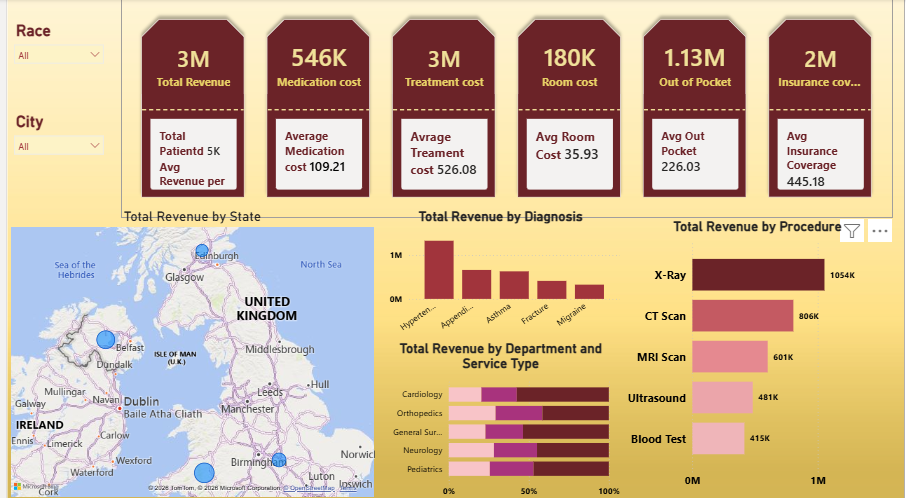

This screenshot's page, from the dashboard's own definition file:
{"tool":"powerbi","page":{"name":"Financial ovrveiw","canvas":[1280,720],"ordinal":0},"visuals":[{"type":"cardVisual","fields":{"Data":["cities.Total Revenue","cities.Medication cost","cities.Treatment cost","cities.Room cost","cities.Out of Pocket","cities.Insurance coverage"]},"box":[162.7,0,1101.2,312.8],"z":0},{"type":"hundredPercentStackedBarChart","fields":{"Category":["departments.Department"],"Y":["cities.Total Revenue"],"Series":["visits.Service Type"]},"box":[529.2,486.3,350.4,234.2],"z":1000},{"type":"clusteredColumnChart","fields":{"Y":["cities.Total Revenue"],"Category":["diagnoses.Diagnosis"]},"box":[529.2,298.5,350.4,187.7],"z":2000},{"type":"barChart","fields":{"Y":["cities.Total Revenue"],"Category":["procedures.Procedure"]},"box":[879.6,312.8,384.4,395.1],"z":3000},{"type":"slicer","fields":{"Values":["patients.Race"]},"box":[0,26.8,148.4,130.5],"z":4000},{"type":"map","fields":{"Category":["cities.State"],"Size":["cities.Total Revenue"]},"box":[0,298.5,529.2,416.5],"z":5000},{"type":"slicer","fields":{"Values":["cities.City"]},"box":[0,157.3,148.4,155.5],"z":6000}]}

Visuals, with their boxes in screenshot pixels (x1, y1, x2, y2), scaled from the page's 1280x720 canvas onto the 906x498 screenshot:
cardVisual - cities.Total Revenue x cities.Medication cost: (x1=115, y1=0, x2=895, y2=216)
hundredPercentStackedBarChart - departments.Department x cities.Total Revenue: (x1=375, y1=336, x2=623, y2=497)
clusteredColumnChart - cities.Total Revenue x diagnoses.Diagnosis: (x1=375, y1=206, x2=623, y2=336)
barChart - cities.Total Revenue x procedures.Procedure: (x1=623, y1=216, x2=895, y2=490)
slicer - patients.Race: (x1=0, y1=19, x2=105, y2=109)
map - cities.State x cities.Total Revenue: (x1=0, y1=206, x2=375, y2=495)
slicer - cities.City: (x1=0, y1=109, x2=105, y2=216)
